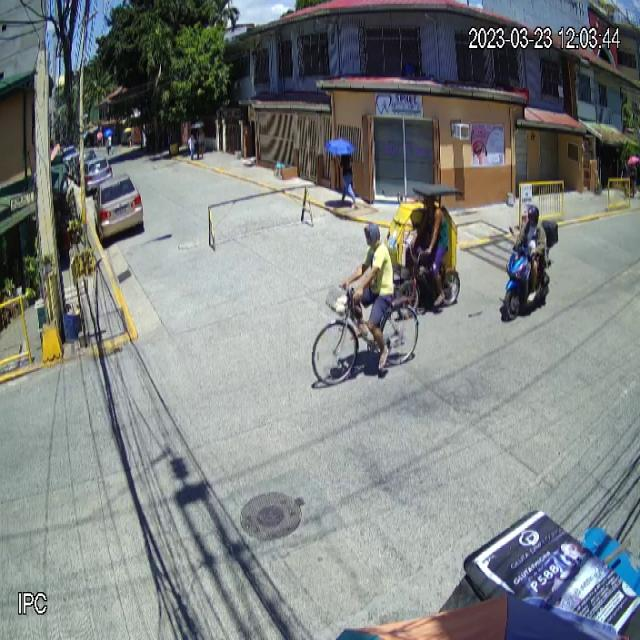Motorcycle: (502, 208, 559, 322)
Tricycle: (384, 180, 463, 315)
